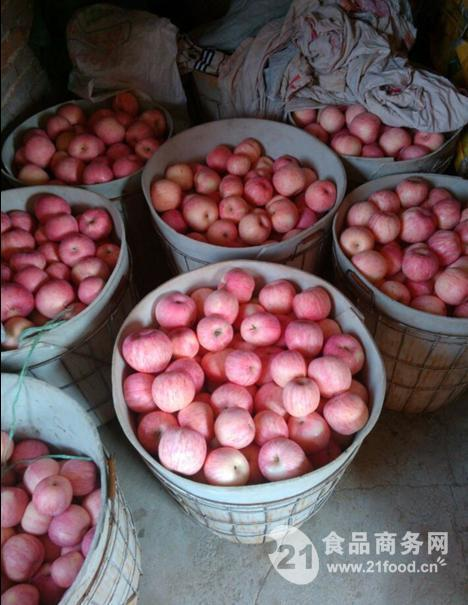apple: (157, 427, 206, 475), (121, 329, 172, 372), (256, 437, 303, 480), (203, 446, 252, 487), (324, 393, 369, 437), (1, 534, 44, 580), (47, 504, 90, 547), (151, 371, 194, 412), (214, 407, 255, 449), (307, 356, 351, 394), (32, 476, 73, 516), (324, 334, 364, 373), (282, 376, 319, 418), (154, 293, 196, 328), (37, 281, 74, 319), (216, 267, 257, 301), (239, 312, 281, 345), (60, 458, 96, 495), (196, 314, 232, 351), (1, 281, 34, 321), (284, 320, 322, 354), (401, 247, 440, 280), (292, 287, 331, 320), (258, 279, 297, 312), (225, 349, 260, 385), (402, 207, 438, 241), (181, 196, 217, 230), (435, 268, 468, 305), (79, 206, 113, 240), (429, 230, 462, 265), (203, 290, 238, 323), (59, 233, 96, 264), (340, 226, 377, 256), (352, 250, 389, 280), (1, 486, 29, 525), (368, 211, 401, 244), (349, 112, 381, 144), (306, 180, 337, 212), (240, 212, 271, 244), (269, 200, 300, 232), (273, 165, 304, 197), (432, 198, 462, 230), (150, 180, 180, 211), (23, 136, 55, 165), (93, 116, 125, 145), (1, 229, 35, 256), (398, 176, 428, 205), (45, 214, 78, 240), (70, 134, 104, 159), (380, 127, 411, 154), (53, 156, 84, 183), (73, 257, 107, 280), (15, 268, 49, 291), (332, 133, 362, 156), (209, 220, 237, 243), (220, 197, 248, 220), (321, 108, 344, 131)
